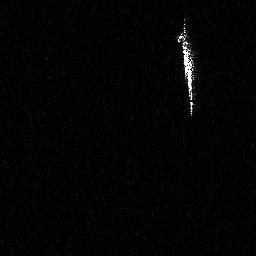ship: (176, 16, 199, 121)
